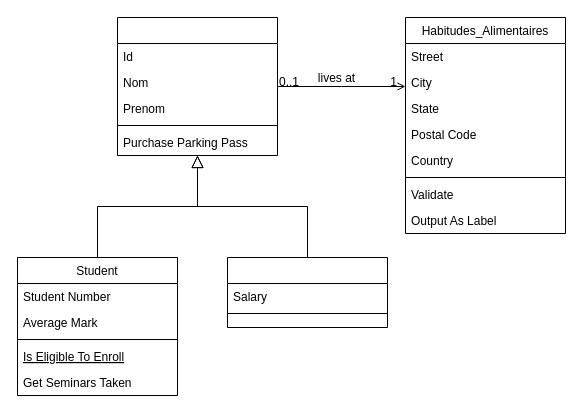
This 583x416 diagram has some shape labels left out. The shapes that lost their labels are listed below. From the top down, each one's box as (x1, y1, x2, y2) in pixels, then its label:
(116, 16, 278, 156): Utilisateurs
(226, 256, 388, 328): Professor
